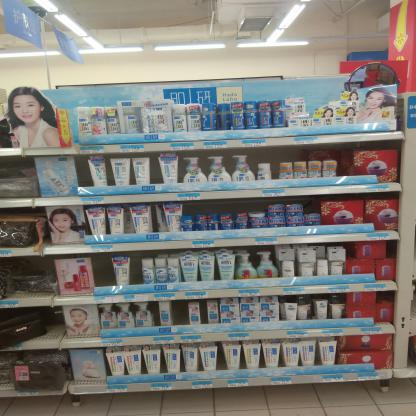Void: (183, 203, 267, 211), (96, 257, 112, 285), (130, 261, 142, 285), (176, 304, 188, 323), (302, 197, 317, 212), (346, 243, 355, 261), (378, 292, 394, 301), (388, 241, 395, 258)
